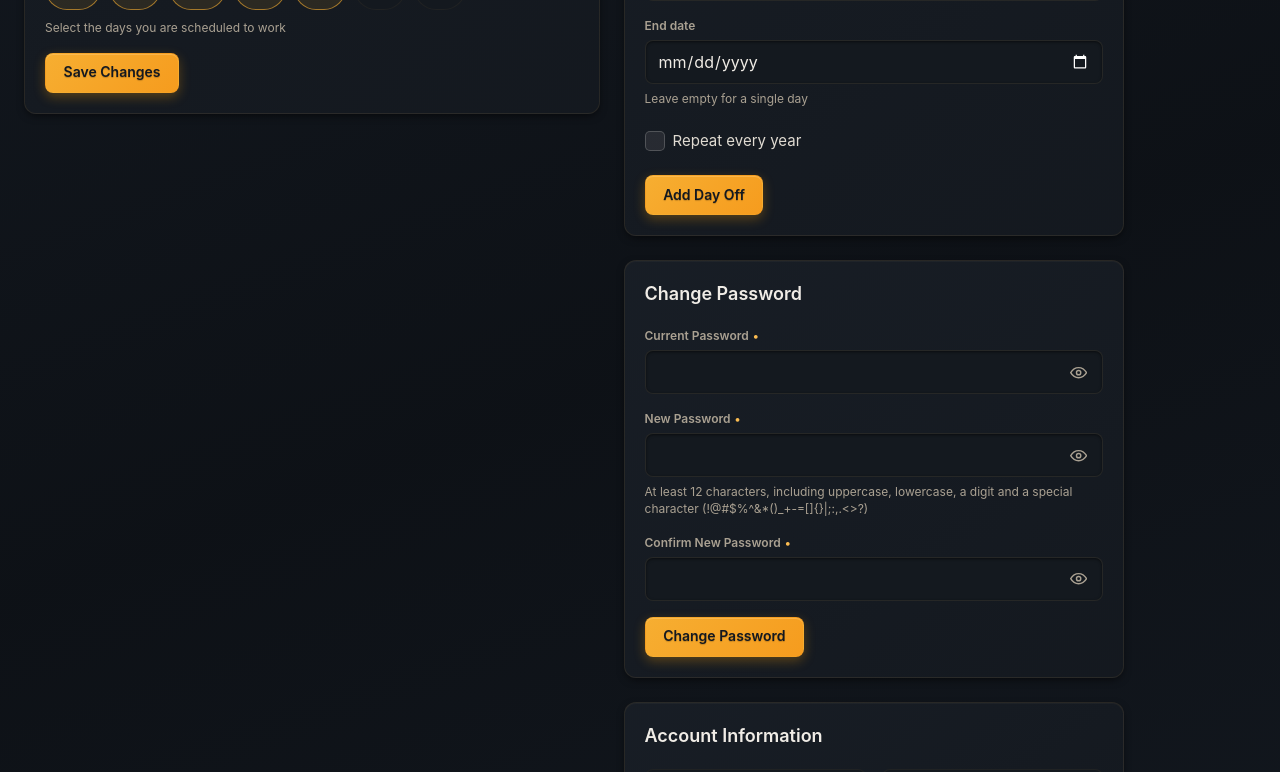
Test: SettingsPage – password › shows a wrong current password as field error
(page scrolled)
Step 1. Type "WrongPassword1!" into the password field labelled "Current Password•" → coordinates (859, 372), box [658,351,1060,393]
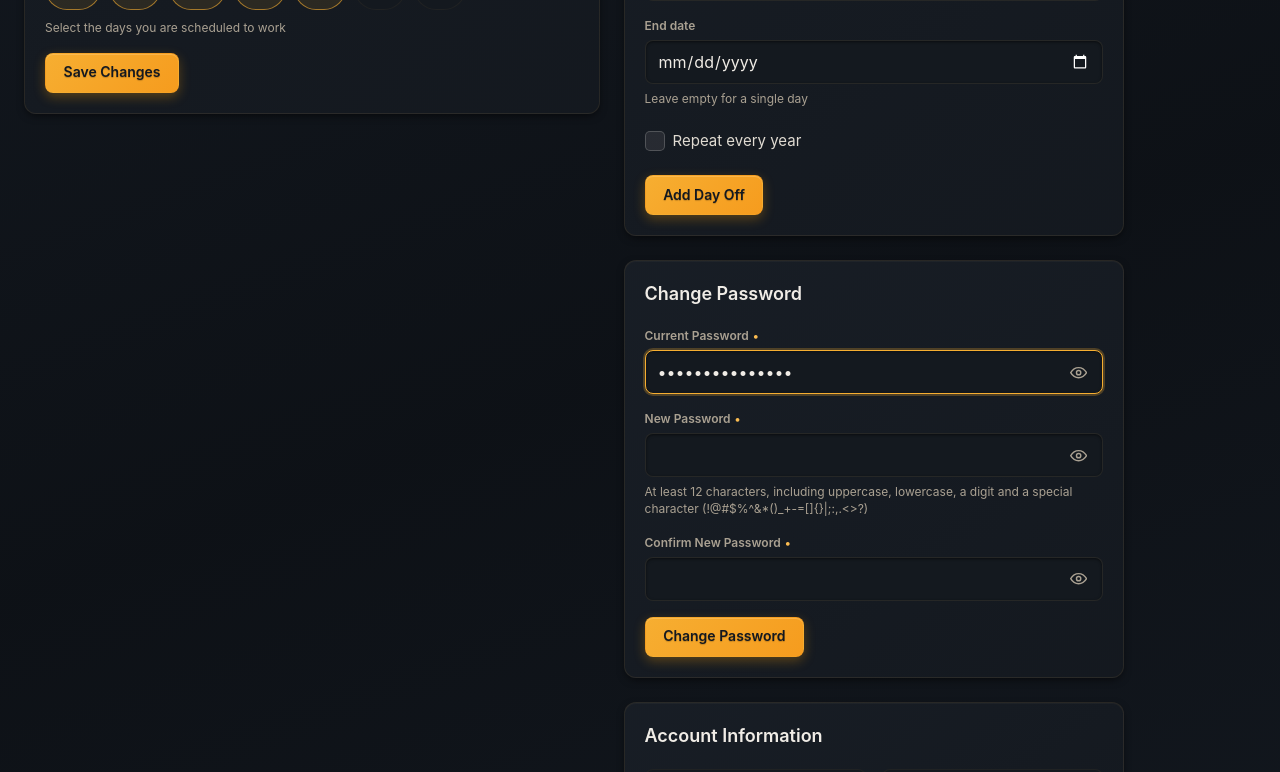
Step 2. Type "NewPassword1234!" into the password field labelled "New Password•" → coordinates (859, 455), box [658,434,1060,476]
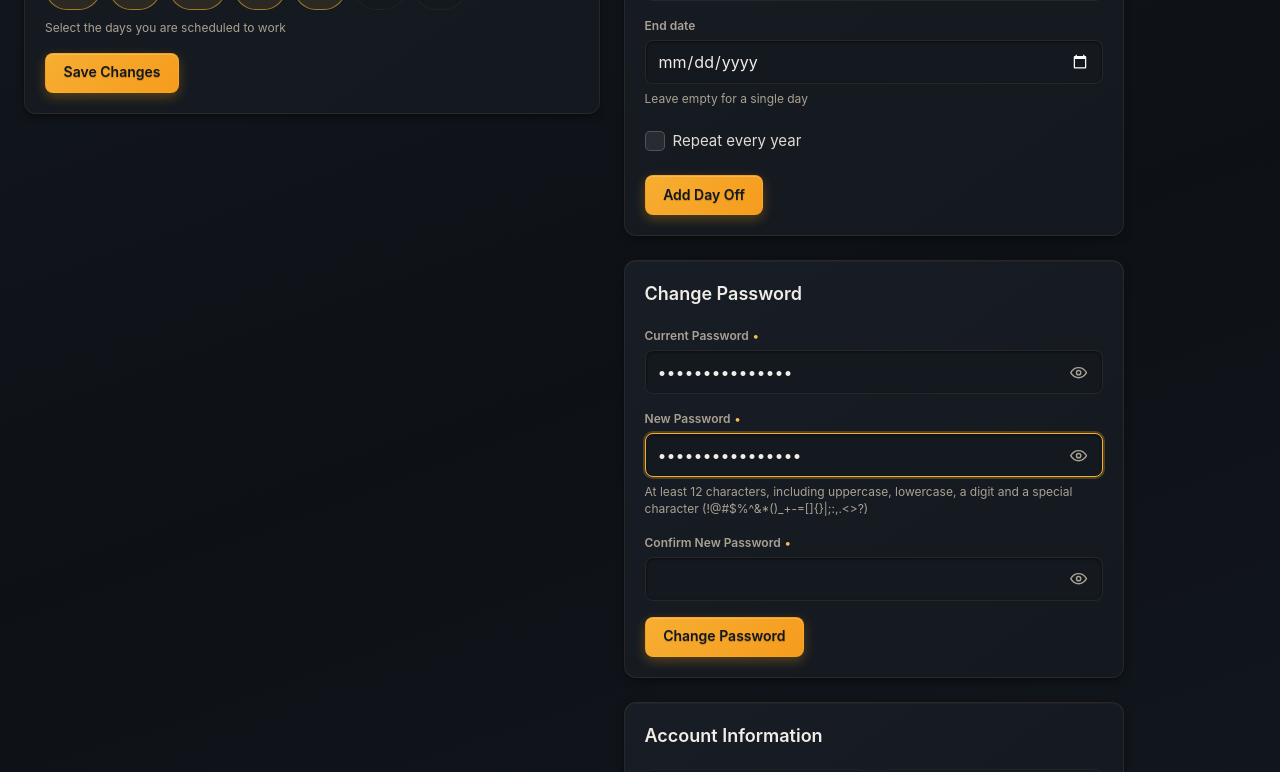
Step 3. Type "NewPassword1234!" into the password field labelled "Confirm New Password•" → coordinates (859, 578), box [658,558,1060,600]
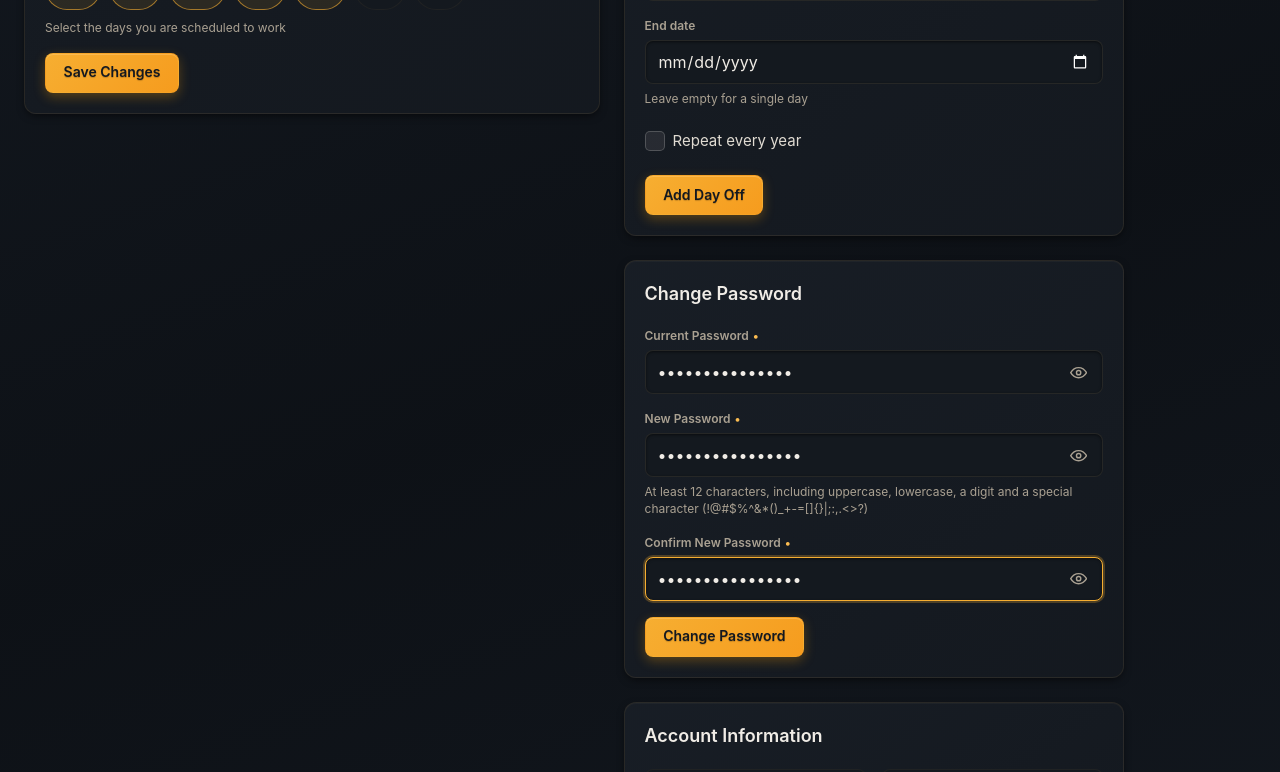
Step 4. Click the button "Change Password" → coordinates (724, 636), box [644,616,804,656]
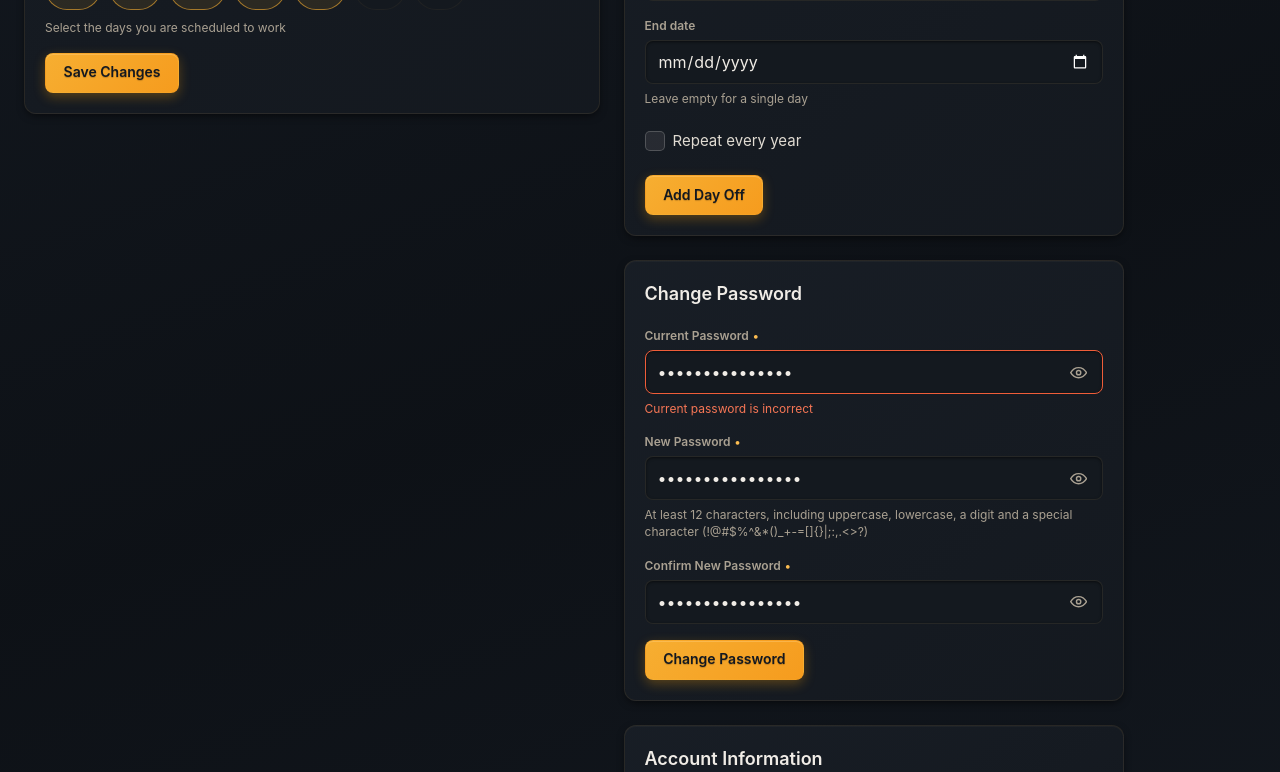
Check: the text "Current password is incorrect" is shown, box [644,401,813,416]
